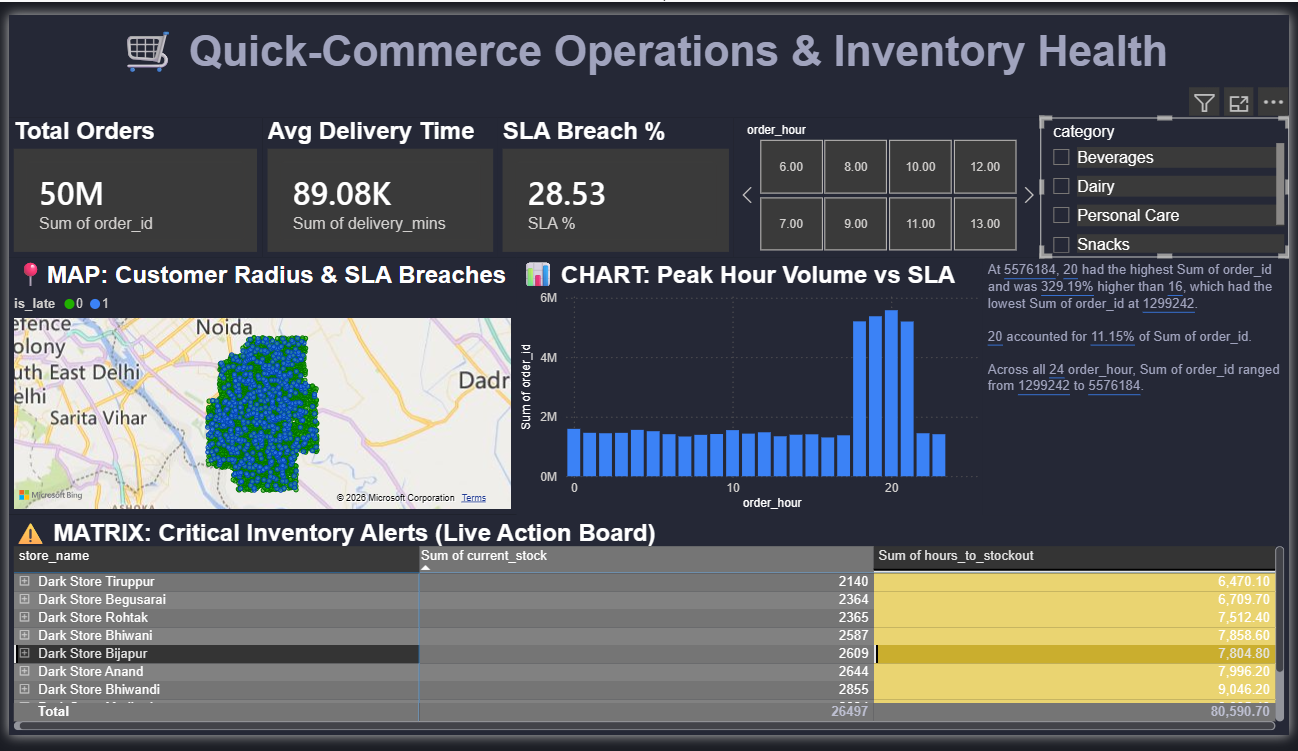

The dashboard page shown, as its layout file describes it:
{"tool":"powerbi","page":{"name":"Page 1","canvas":[1280,720],"ordinal":0},"visuals":[{"type":"cardVisual","title":"Avg Delivery Time","fields":{"Data":["Sum(public vw_powerbi_delivery_stats.delivery_mins)"]},"box":[253.8,102.5,235,140],"z":0},{"type":"cardVisual","title":"SLA Breach %","fields":{"Data":["public vw_powerbi_delivery_stats.SLA %"]},"box":[488.8,102.5,236.2,140],"z":1000},{"type":"cardVisual","title":"Total Orders","fields":{"Data":["Sum(public vw_powerbi_delivery_stats.order_id)"]},"box":[0,102.5,253.8,140],"z":2000},{"type":"map","title":"📍MAP: Customer Radius & SLA Breaches","fields":{"Y":["public vw_powerbi_delivery_stats.cust_lat"],"X":["public vw_powerbi_delivery_stats.cust_lon"],"Series":["public vw_powerbi_delivery_stats.is_late"]},"box":[0,242.9,507.1,257.1],"z":3000},{"type":"lineClusteredColumnComboChart","title":"📊 CHART: Peak Hour Volume vs SLA","fields":{"Category":["public vw_powerbi_delivery_stats.order_hour"],"Y":["Sum(public vw_powerbi_delivery_stats.order_id)"]},"box":[507.5,242.5,466.2,257.5],"z":3001},{"type":"pivotTable","title":"⚠️ MATRIX: Critical Inventory Alerts (Live Action Board)                     ","fields":{"Rows":["public vw_powerbi_inventory_alerts.store_name","public vw_powerbi_inventory_alerts.product_name"],"Values":["Sum(public vw_powerbi_inventory_alerts.current_stock)","Sum(public vw_powerbi_inventory_alerts.hours_to_stockout)"]},"box":[0,500,1280,220],"z":3002},{"type":"textbox","box":[0,0,1280,102],"z":3003},{"type":"textbox","box":[973.8,242.5,306.2,257.5],"z":3004},{"type":"slicer","fields":{"Values":["public vw_powerbi_delivery_stats.order_hour"]},"box":[725,102.5,306.2,140],"z":3005},{"type":"slicer","fields":{"Values":["public vw_powerbi_inventory_alerts.category"]},"box":[1031.2,102.5,248.8,140],"z":3006}]}

Visuals, with their boxes in screenshot pixels (x1, y1, x2, y2), scaled from the page's 1280x720 canvas onto the 1298x751 screenshot:
"Avg Delivery Time" cardVisual: bbox=[257, 107, 496, 253]
"SLA Breach %" cardVisual: bbox=[496, 107, 735, 253]
"Total Orders" cardVisual: bbox=[0, 107, 257, 253]
"📍MAP: Customer Radius & SLA Breaches" map: bbox=[0, 253, 514, 522]
"📊 CHART: Peak Hour Volume vs SLA" lineClusteredColumnComboChart: bbox=[515, 253, 987, 522]
"⚠️ MATRIX: Critical Inventory Alerts (Live Action Board)                     " pivotTable: bbox=[0, 522, 1297, 750]
textbox: bbox=[0, 0, 1297, 106]
textbox: bbox=[987, 253, 1297, 522]
slicer - public vw_powerbi_delivery_stats.order_hour: bbox=[735, 107, 1046, 253]
slicer - public vw_powerbi_inventory_alerts.category: bbox=[1046, 107, 1297, 253]
